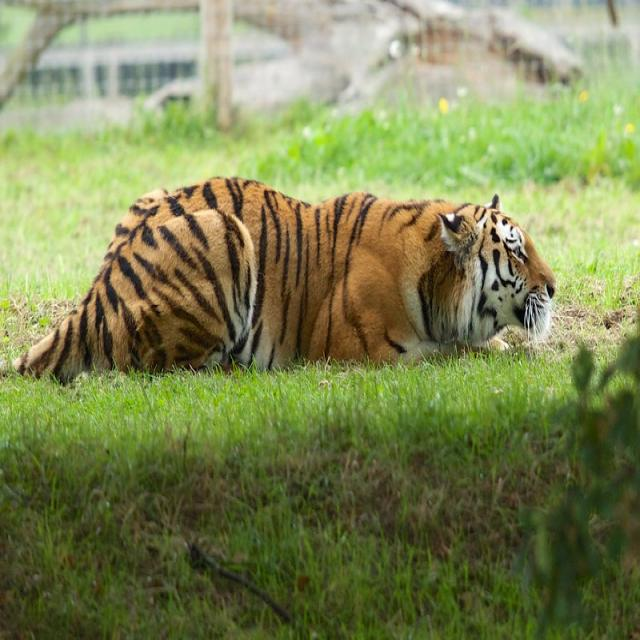Tiger: (0, 172, 558, 380)
